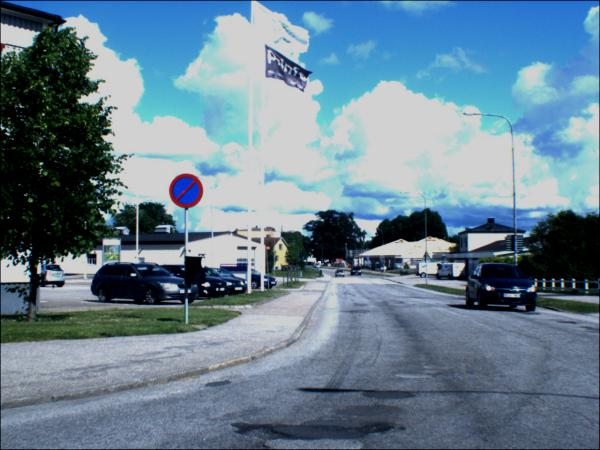NO_PARKING: (169, 174, 203, 211)
PRIORITY_ROAD: (318, 263, 322, 267)
